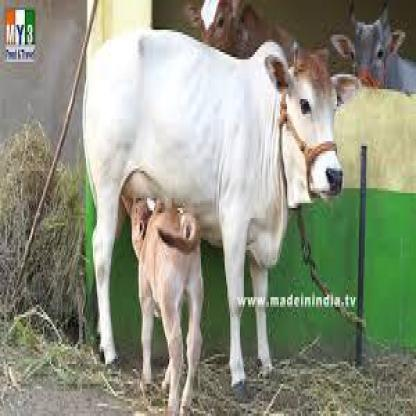cow: (83, 27, 361, 387), (121, 193, 202, 416), (330, 0, 416, 94), (186, 0, 302, 62)
